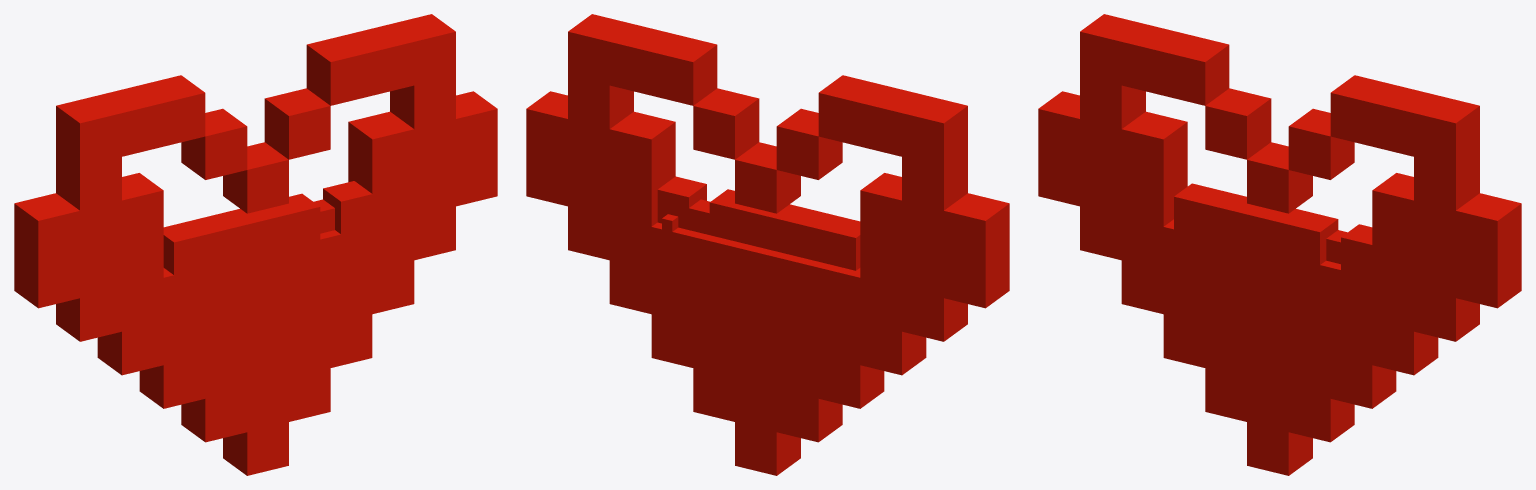
Rendered from AbelVie.glb.
The picture shows the model from 3 angles, left to right: view 1: azimuth 30°, elevation 25°; view 2: azimuth 150°, elevation 25°; view 3: azimuth 330°, elevation 25°; orthographic projection.
Visible parts, largest first — view 1: ObjObject; view 2: ObjObject; view 3: ObjObject.
Boxes of the visible parts, left/top/right/bottom form: ObjObject: left=14, top=14, right=497, bottom=475; ObjObject: left=526, top=14, right=1009, bottom=475; ObjObject: left=1038, top=14, right=1521, bottom=475.
Bounding box in the file's own units: 4.4 × 3.6 × 0.4.
